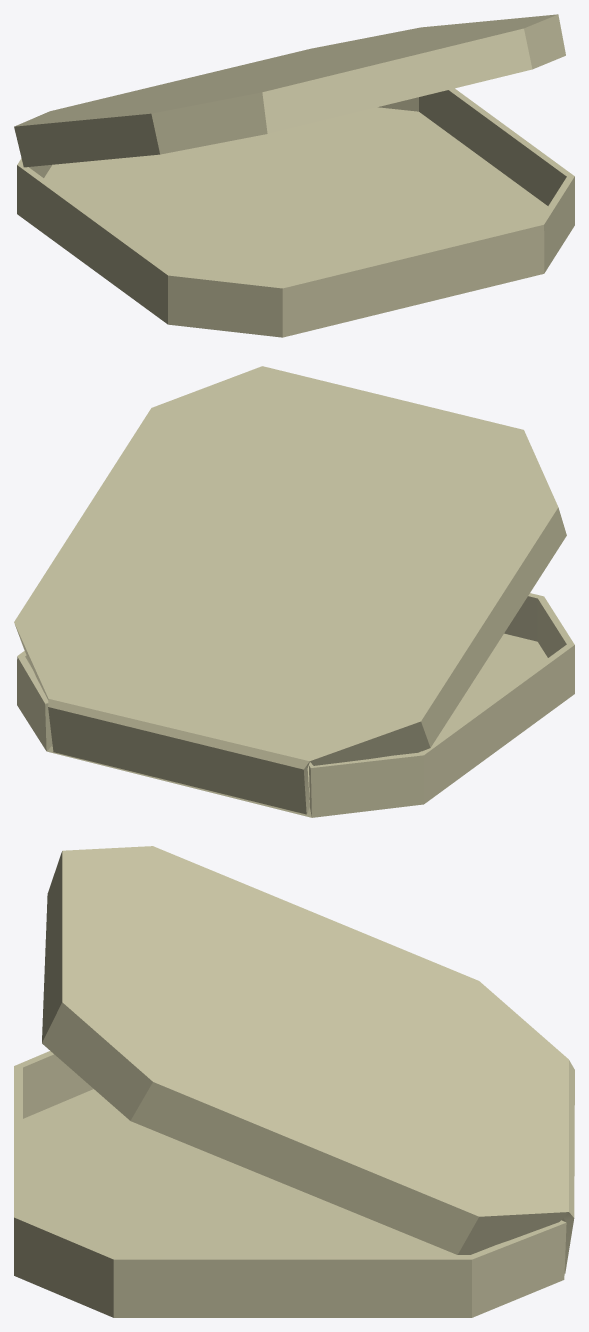
File: Misc_PizzaBox_04.glb
3 renders of one model, top to bottom at view 1: azimuth 30°, elevation 25°; view 2: azimuth 150°, elevation 25°; view 3: azimuth 270°, elevation 25°, orthographic. The views are drawn at different scales.
Visible parts, largest first — view 1: Misc_PizzaBox_04.001; view 2: Misc_PizzaBox_04.001; view 3: Misc_PizzaBox_04.001.
Part boxes in pixels (left/top/right/bottom): Misc_PizzaBox_04.001: left=14, top=14, right=574, bottom=337; Misc_PizzaBox_04.001: left=14, top=366, right=574, bottom=817; Misc_PizzaBox_04.001: left=14, top=846, right=574, bottom=1317.
Bounding box in the file's own units: 0.3459 × 0.1882 × 0.3478.
